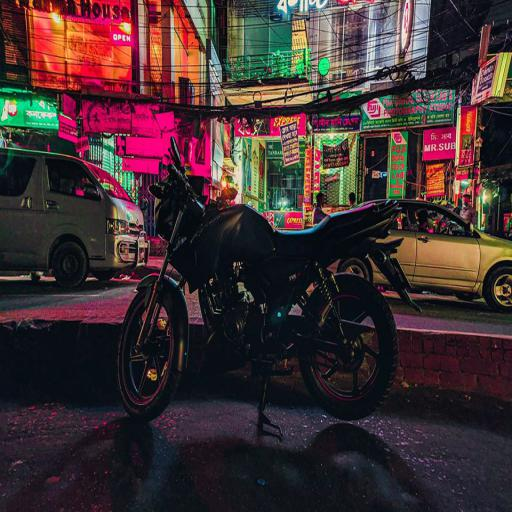car: (383, 198, 512, 318)
motorbike: (108, 134, 426, 439)
van: (3, 141, 152, 291)
